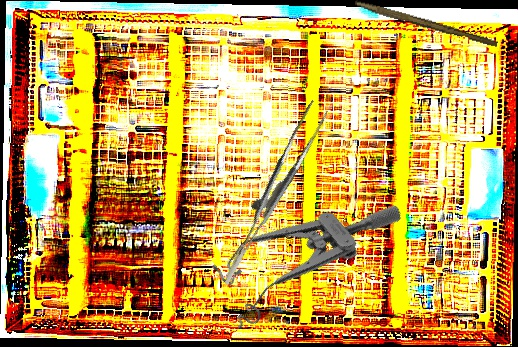Scalpel Handle: (353, 0, 499, 48)
Speculum: (195, 149, 406, 346)
Tissue Forceps: (195, 100, 345, 285)
